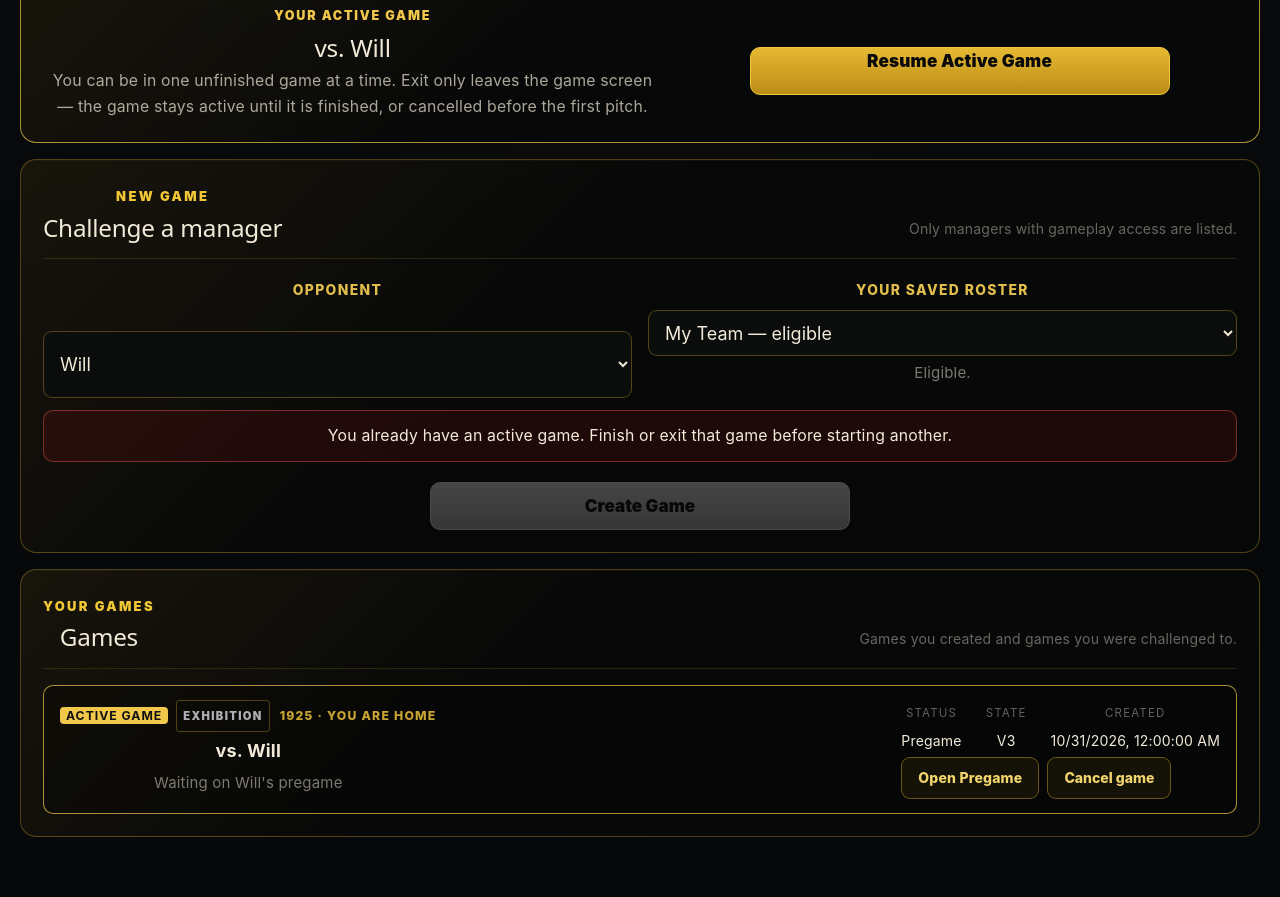
Test case: games page: cancelling and ending › cancels after confirmation and shows it as cancelled with no result
The width and height of the screenshot is (1280, 897).
(page scrolled)
Confirmation is asked on the card, not in a browser dialog (some browsers suppress those).
Click the button "Cancel game".
click(1109, 778)  # box [1047,757,1172,799]
(page scrolled)
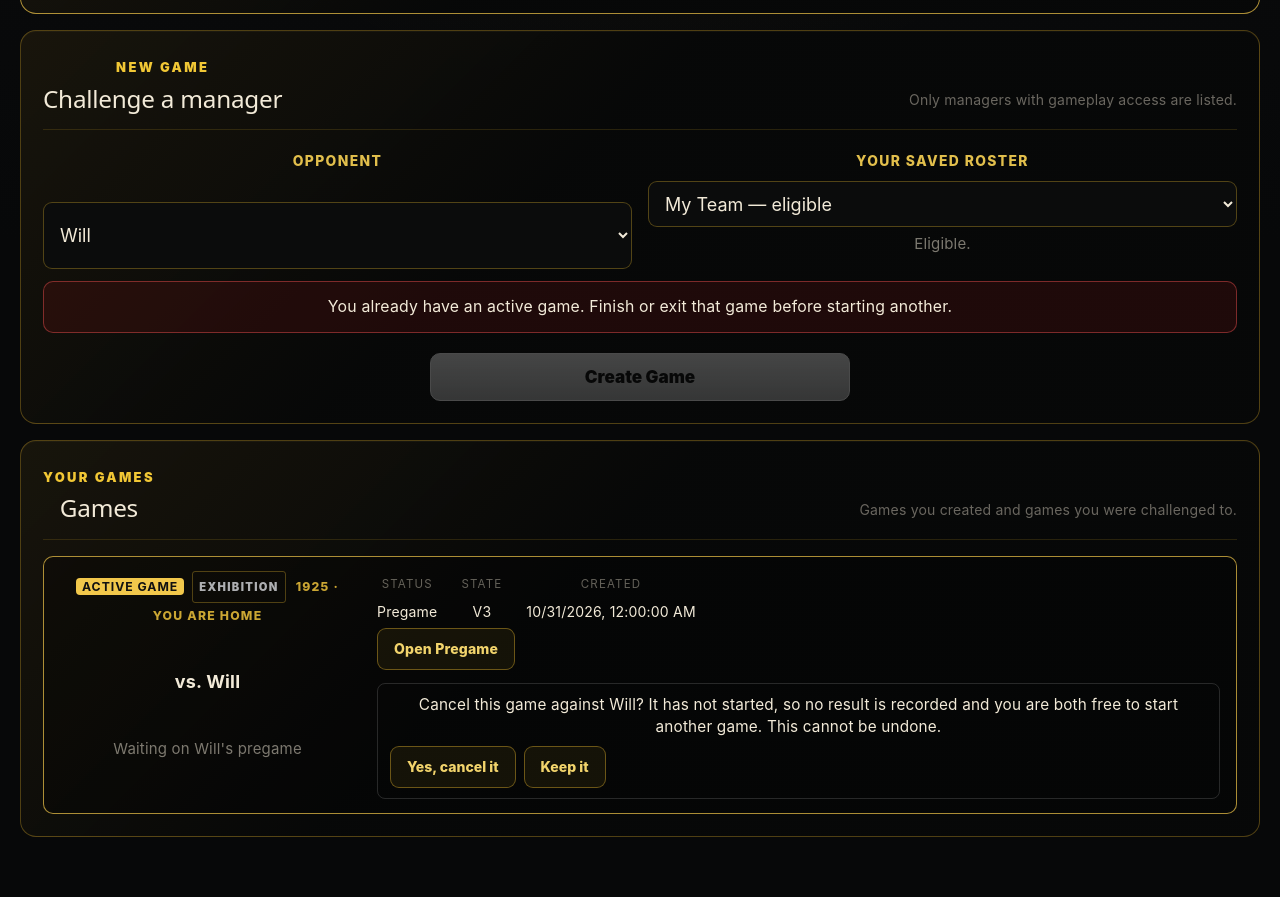
Click the button "Keep it".
click(565, 767)  # box [524,746,606,788]
(page scrolled)
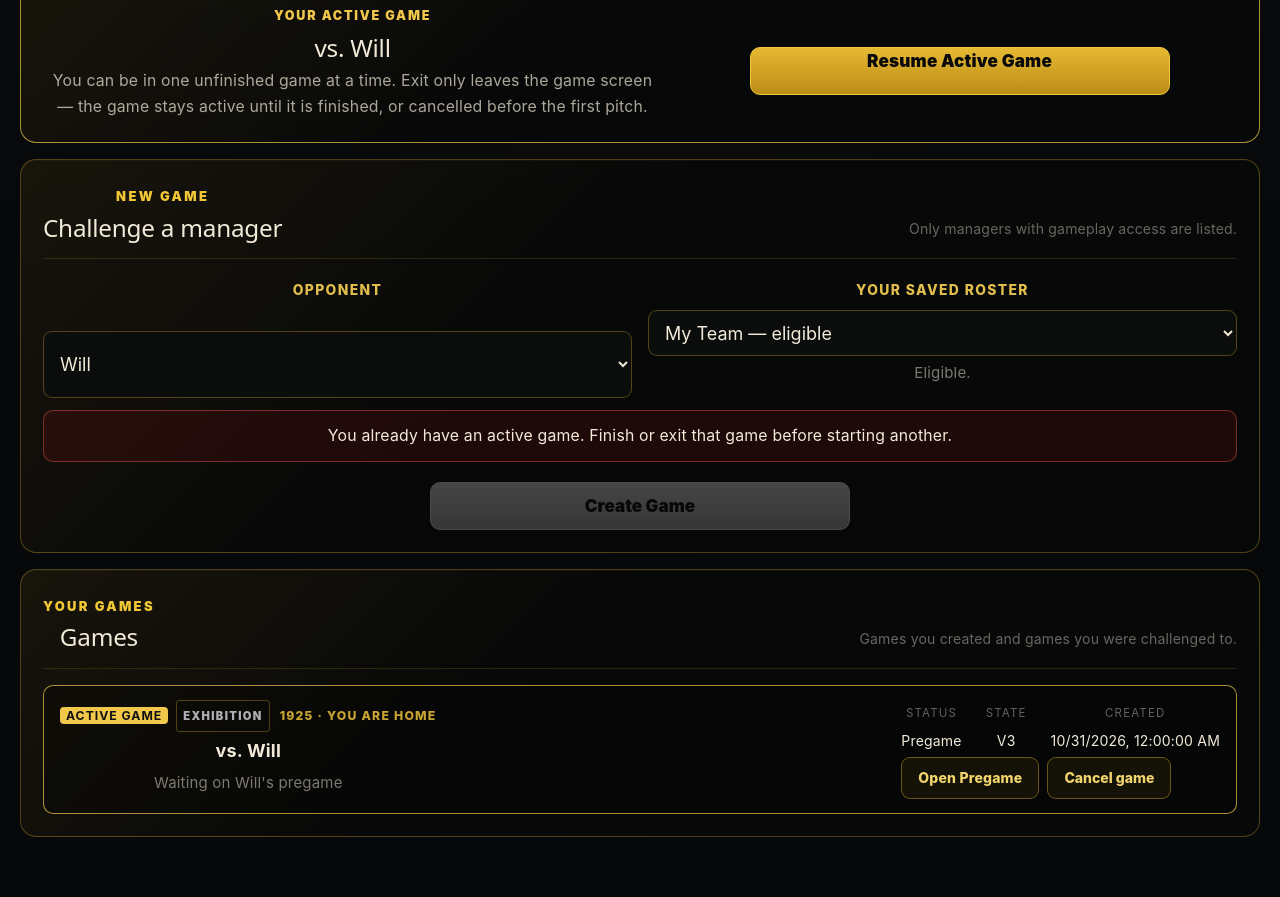
Click the button "Cancel game".
click(1109, 778)  # box [1047,757,1172,799]
(page scrolled)
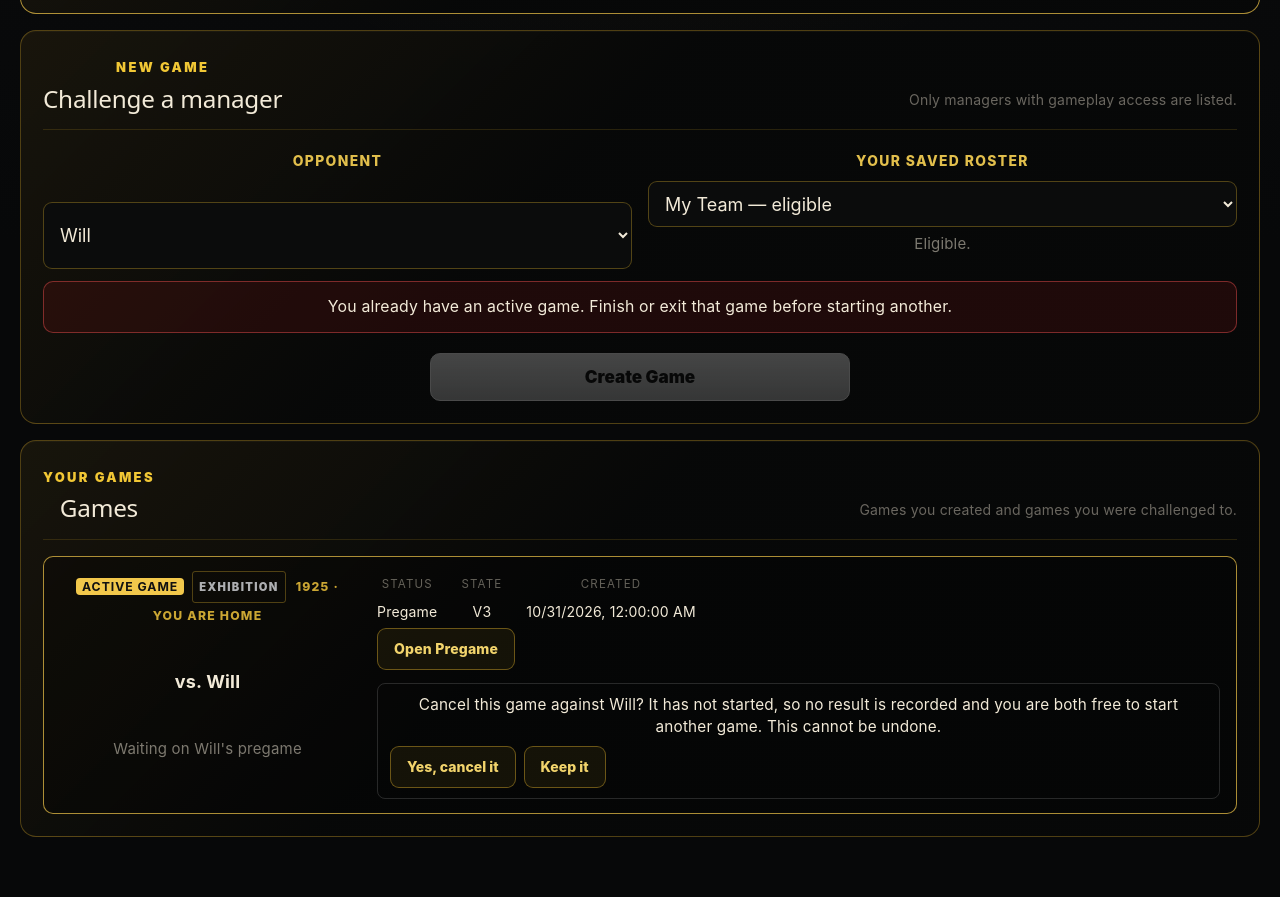
Click the button "Yes, cancel it".
click(453, 767)  # box [390,746,516,788]
(page scrolled)
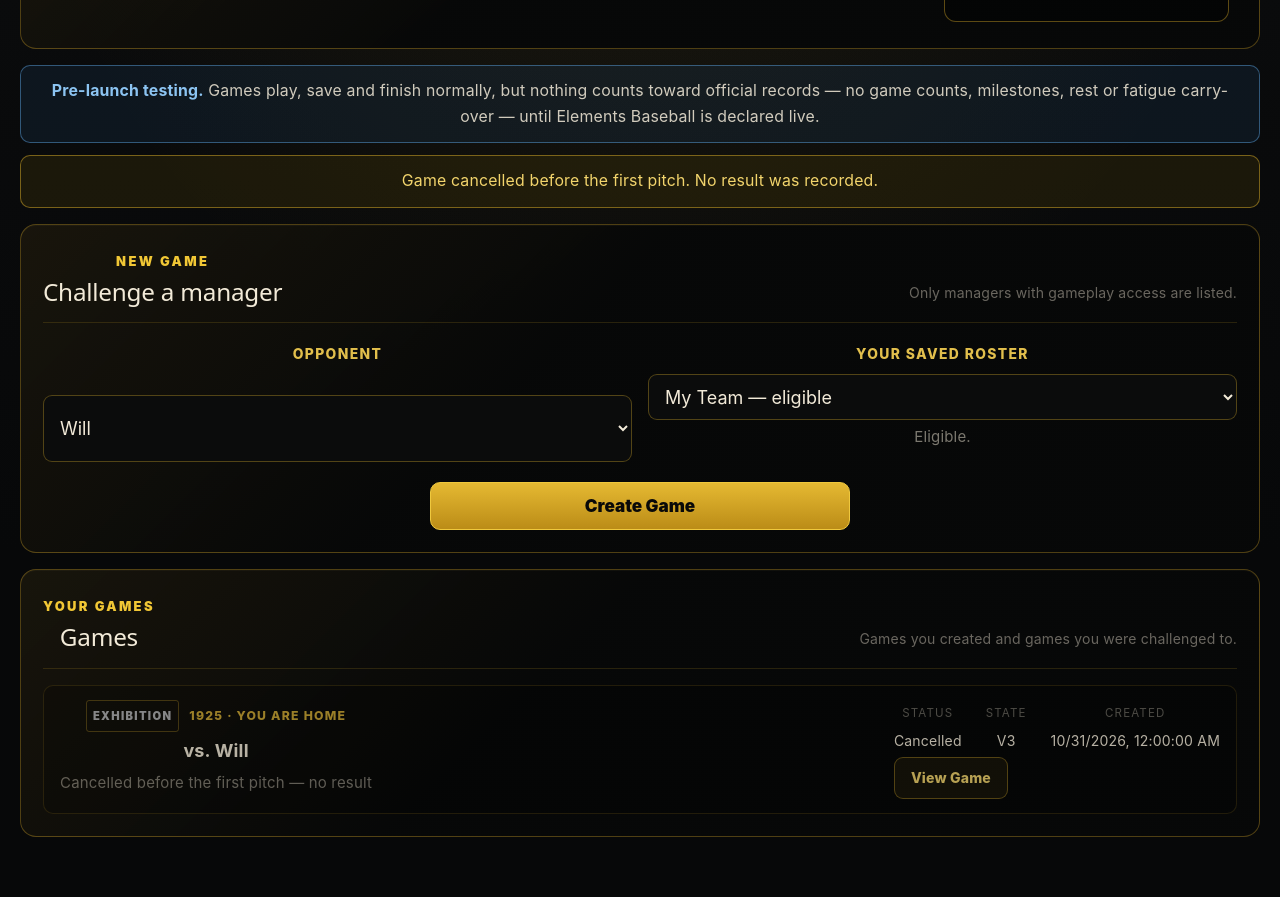
Result: the text "Cancelled before the first pitch — no result" is shown at [60,770,372,799]
Result: the text "Game cancelled before the first pitch" is shown at [402,172,878,190]
Result: the button "Create Game" is enabled at [430,482,850,530]
